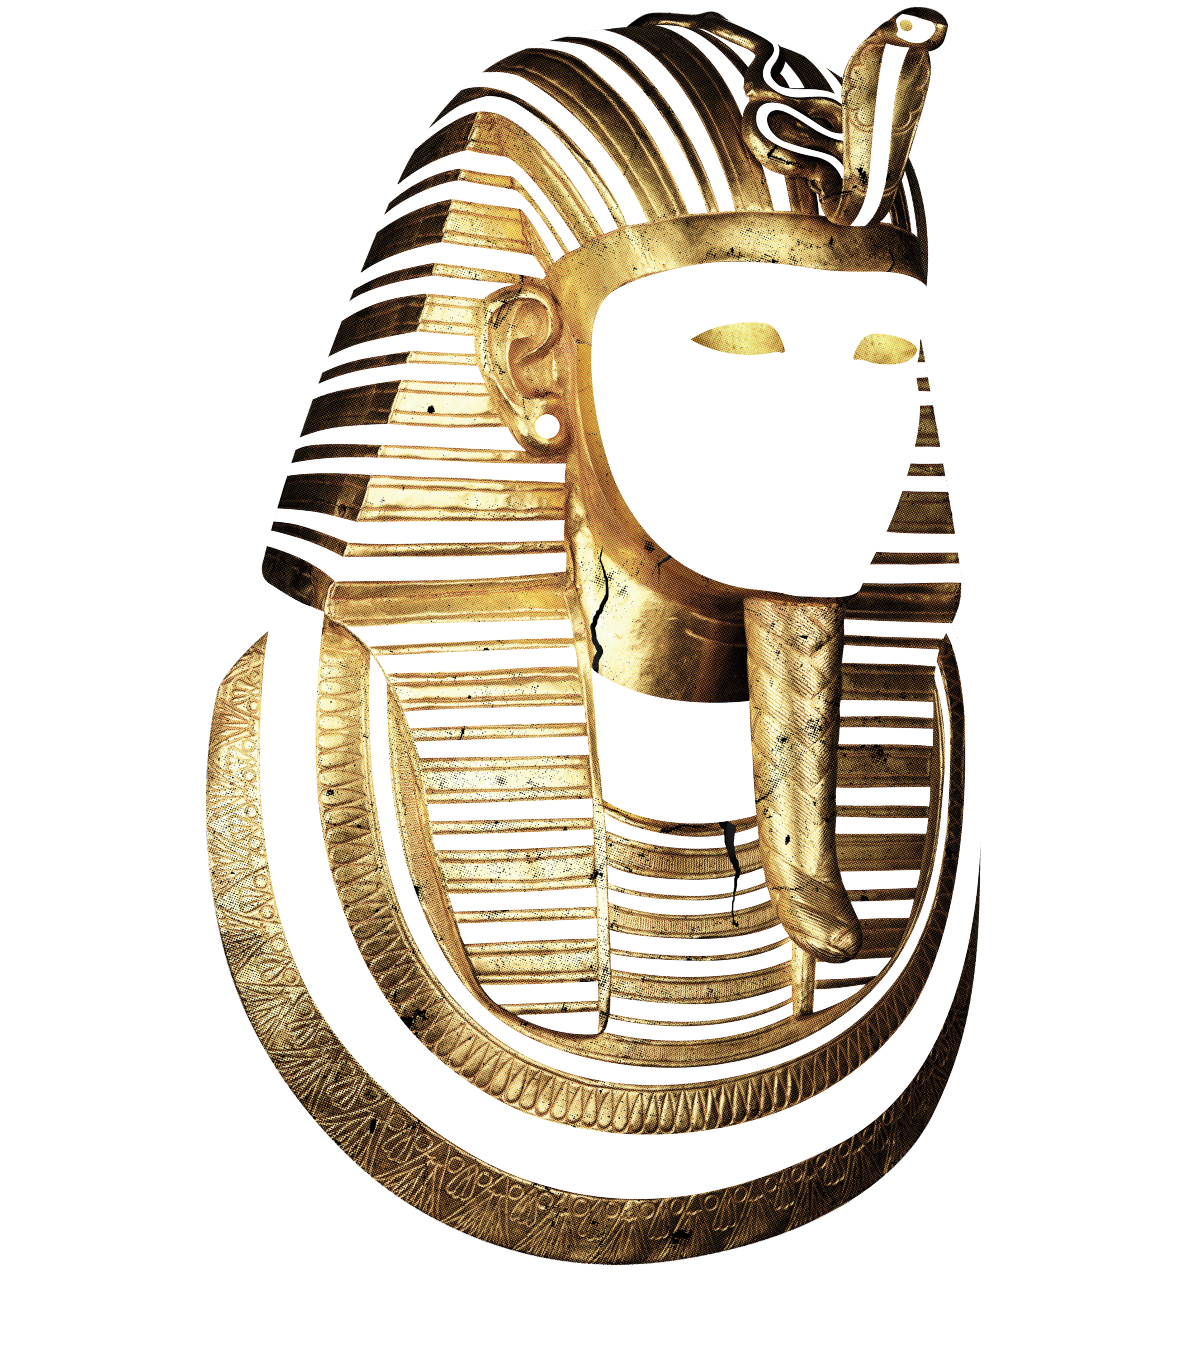design: (178, 1, 1008, 1277)
